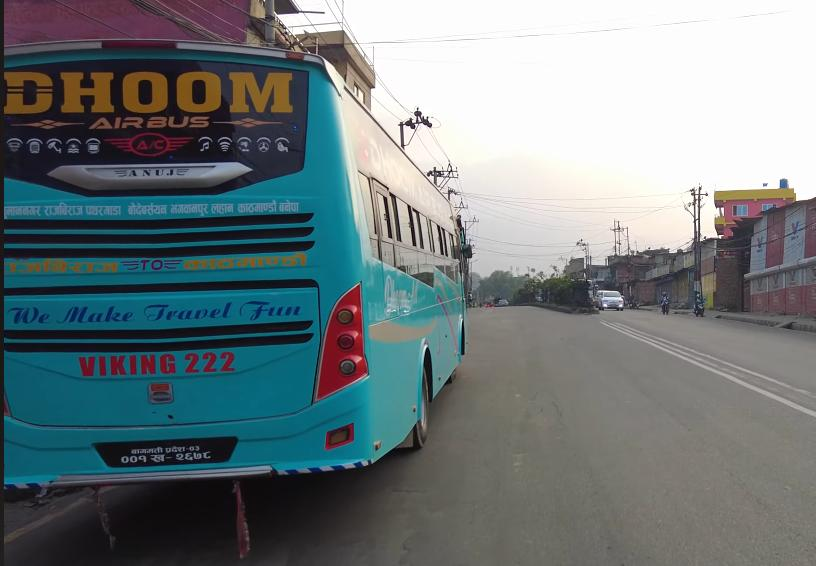bus: (0, 23, 467, 486)
